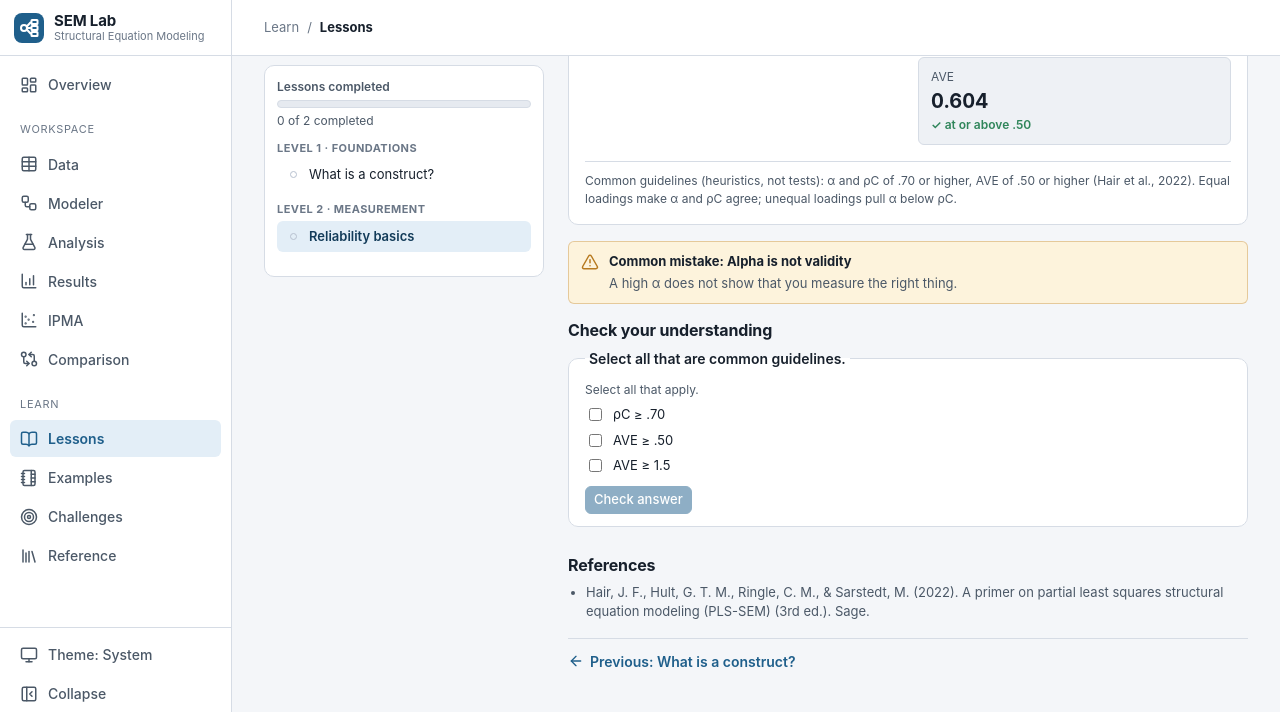
Scenario: Learn page › a multiple-choice check needs the whole correct set
This screenshot has width=1280, height=712.
(page scrolled)
What coordinates should you click on to do the following:
click the checkbox labelled "ρC ≥ .70"
I would click on:
 (596, 414)
Its box is [589,408,602,421].
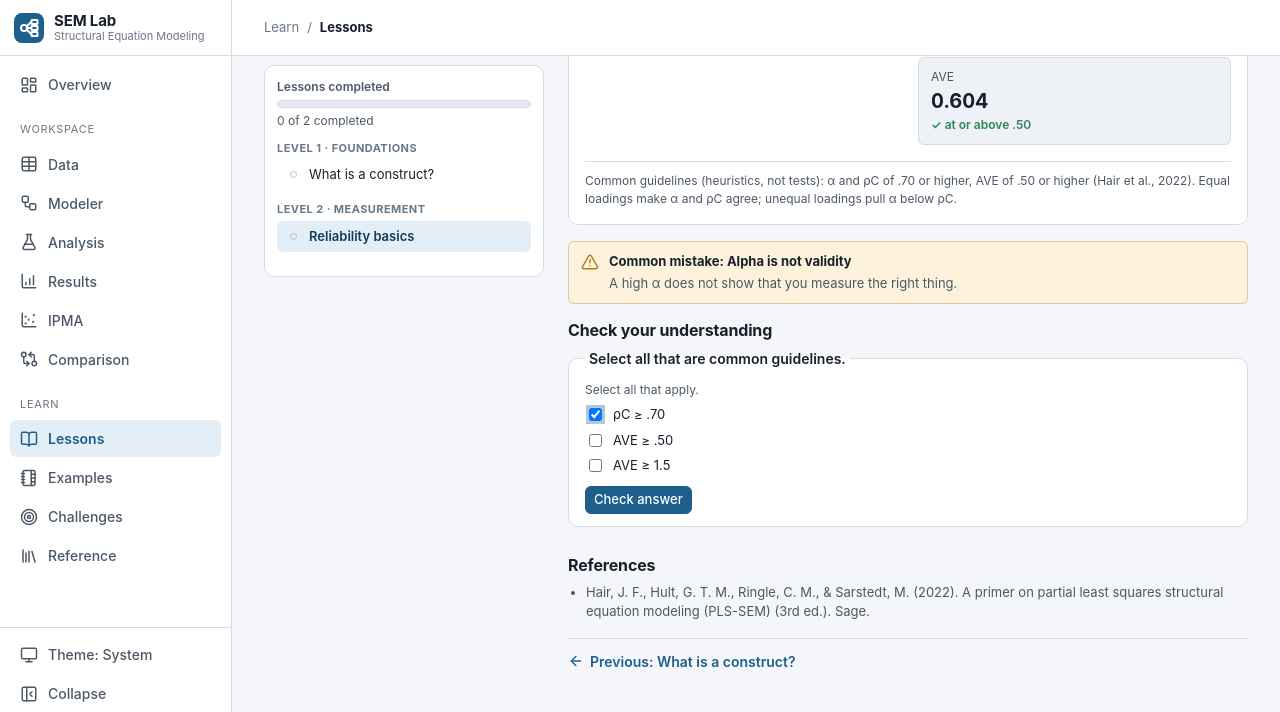
Result: the button "Check answer" is enabled
What coordinates should you click on to do the following:
click the button "Check answer"
I would click on:
 (638, 500)
Its box is [585,486,692,514].
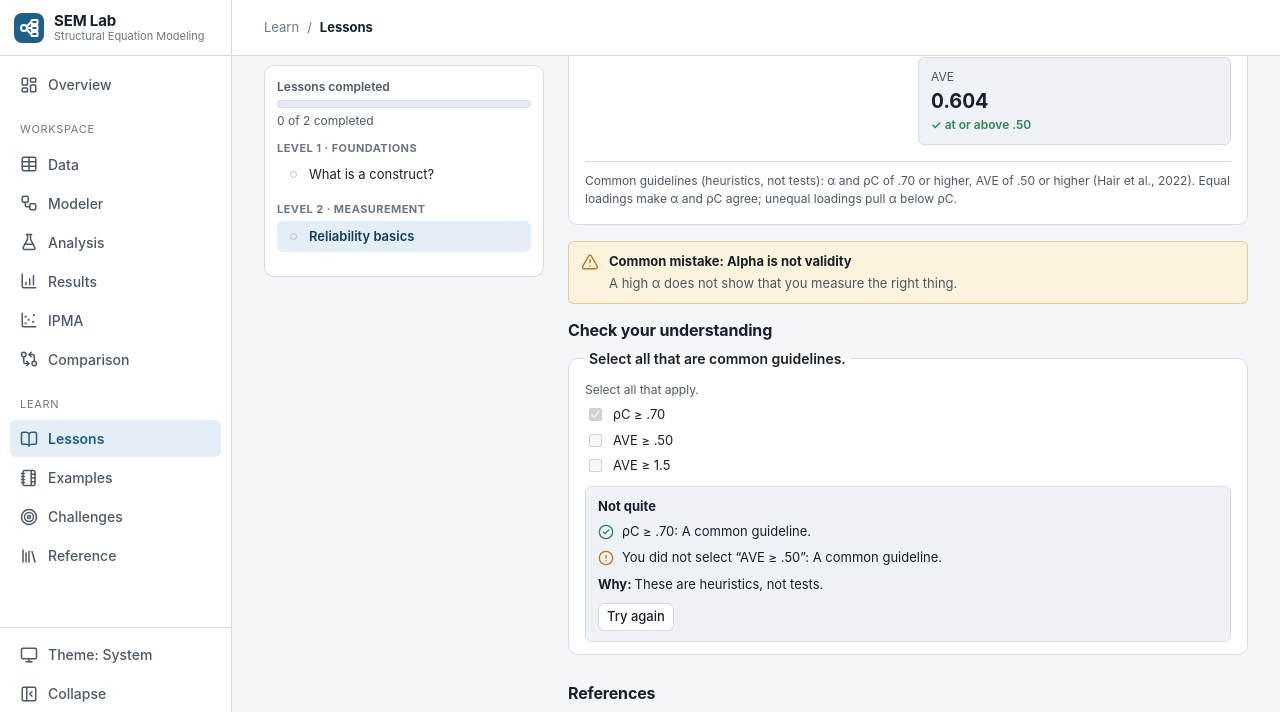
Result: the text "Not quite" is shown at [598,498,656,514]
Result: the text "You did not select “AVE ≥ .50”: A common guideline." is shown at [622,548,942,564]
